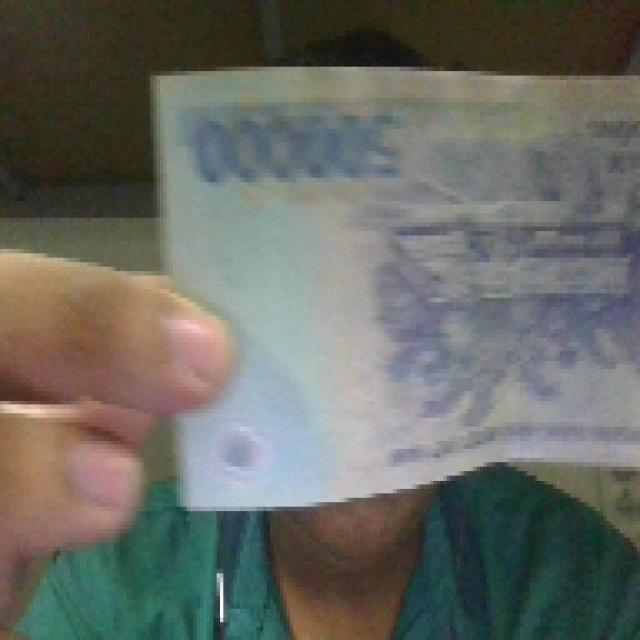500 000 VND: (143, 58, 637, 516)
